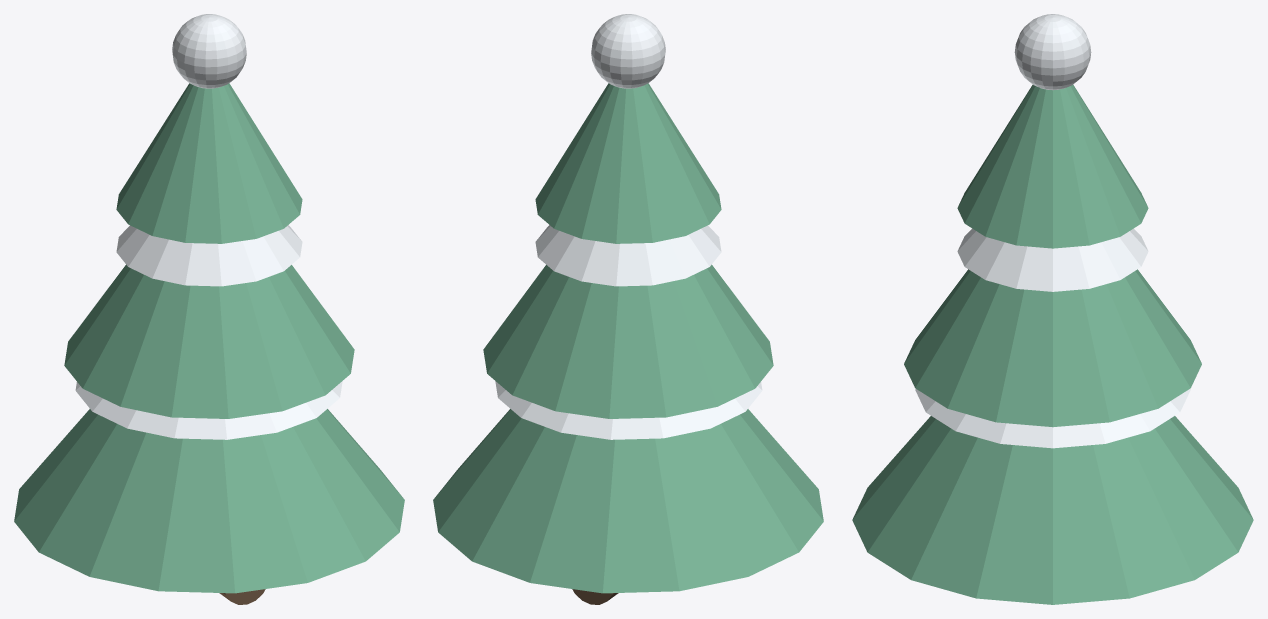
Rendered from snowtree.glb.
3 renders of one model, left to right at view 1: azimuth 30°, elevation 25°; view 2: azimuth 150°, elevation 25°; view 3: azimuth 270°, elevation 25°, orthographic.
Visible parts, largest first — view 1: L1, L2, L3, S2, S1, Cap; view 2: L1, L2, L3, S2, S1, Cap; view 3: L1, L2, L3, S2, S1, Cap.
Part boxes in pixels (x1,y1,x2,y2): L1: (14,409,404,593); L2: (64,264,354,418); L3: (116,83,302,243); S2: (116,225,302,286); S1: (75,381,342,439); Cap: (172,14,246,88); L1: (433,409,823,593); L2: (483,264,773,418); L3: (535,83,721,243); S2: (535,225,721,286); S1: (495,381,762,439); Cap: (591,14,665,88); L1: (852,416,1253,604); L2: (904,269,1201,427); L3: (957,85,1148,248); S2: (957,228,1148,291); S1: (915,389,1190,448); Cap: (1014,14,1091,90).
Size of the model in its own units: 2.1 by 3.29 by 2.1.
